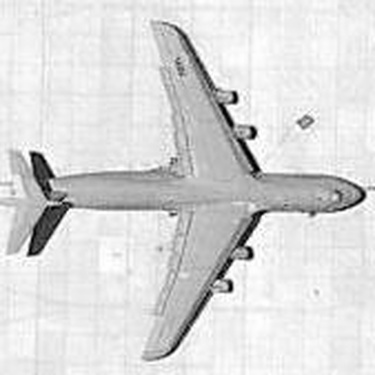airplane: (1, 18, 368, 372)
